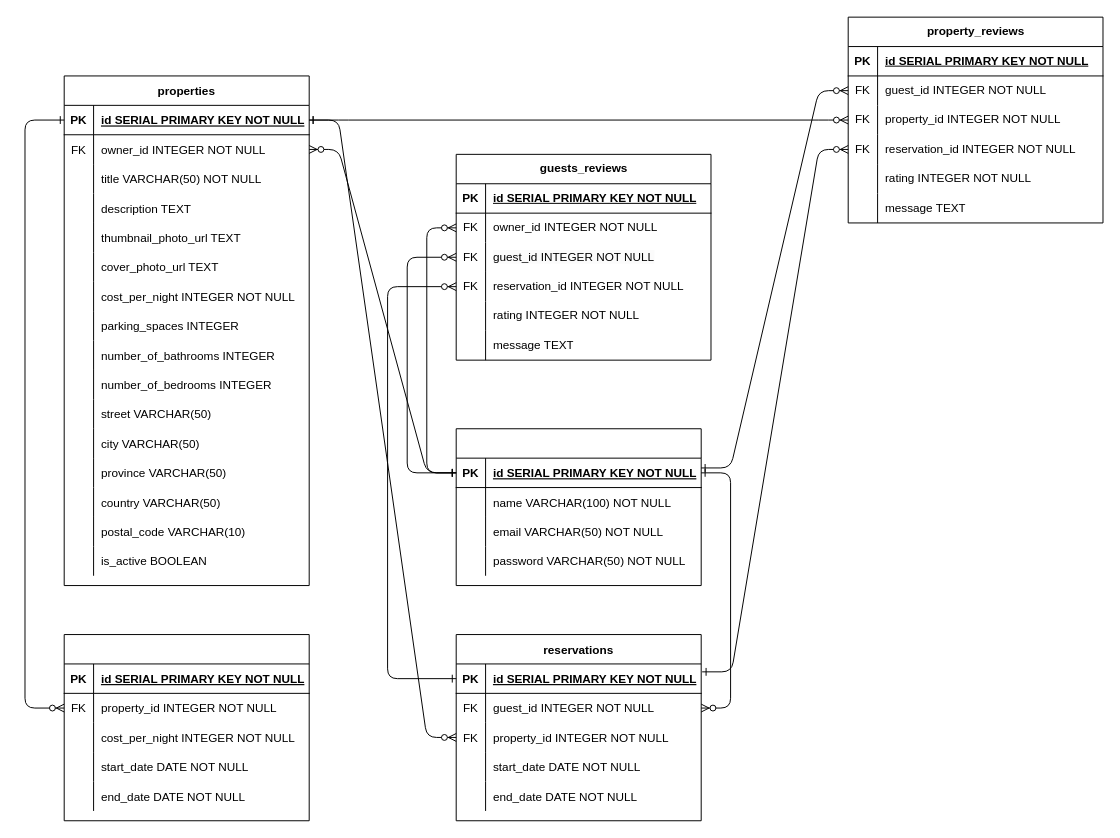
Some shapes in this 1120 by 838 pixel diagram are drawn without their labels. Here are the shapes that lost their labels. From the top down, the box of each, then its label:
(455, 428, 701, 586): users
(63, 634, 309, 821): rates
